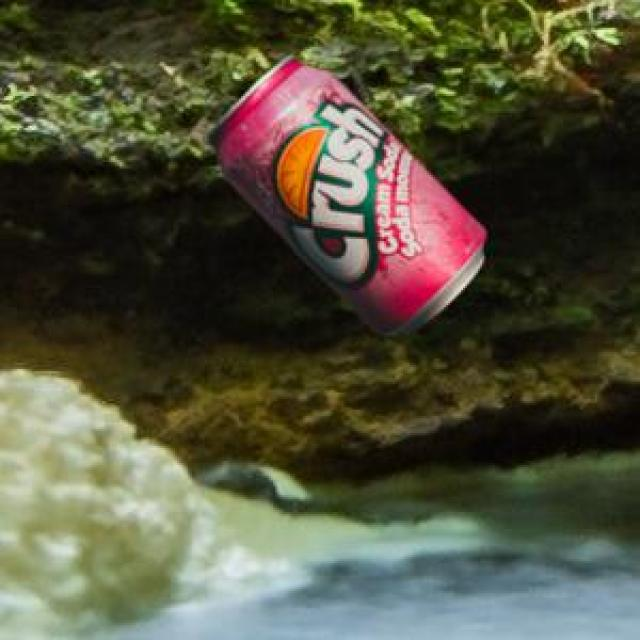logam: (204, 50, 483, 332)
